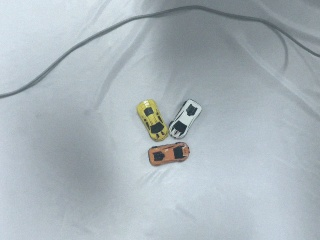phone: (136, 98, 169, 142), (169, 99, 202, 139)
toy_car: (137, 100, 201, 166), (148, 142, 189, 166)
